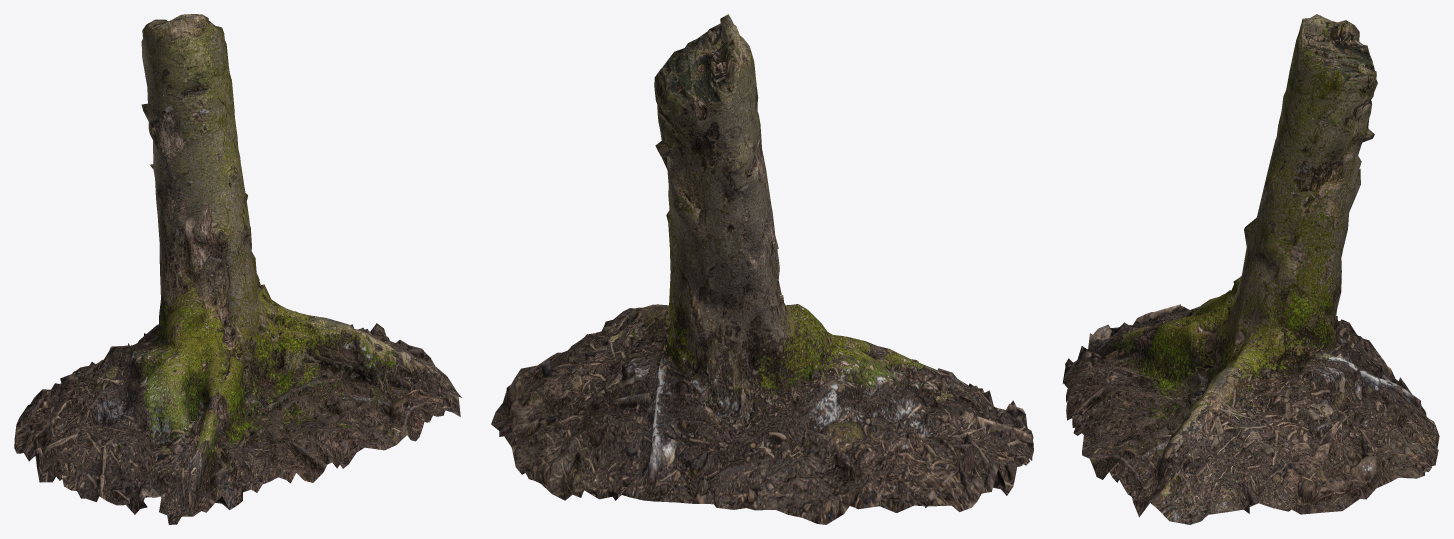
Rendered from PX_Stump_12_LOD3.fbx.
The picture shows the model from 3 angles, left to right: view 1: azimuth 30°, elevation 25°; view 2: azimuth 150°, elevation 25°; view 3: azimuth 270°, elevation 25°; orthographic projection. The views are drawn at different scales.
Parts seen in each view (by area): view 1: PX_Stump_12_LOD3; view 2: PX_Stump_12_LOD3; view 3: PX_Stump_12_LOD3.
Boxes of the visible parts, <box> form: PX_Stump_12_LOD3: <box>14,14,461,524</box>; PX_Stump_12_LOD3: <box>491,14,1033,524</box>; PX_Stump_12_LOD3: <box>1062,14,1439,524</box>.
Bounding box in the file's own units: 116 × 110 × 90.61.
